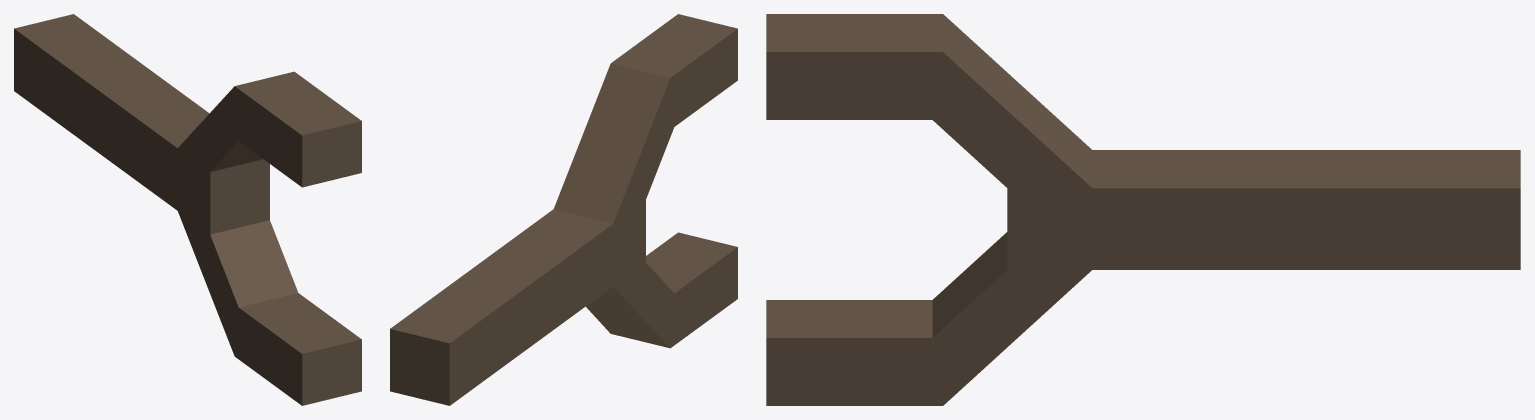
3 renders of one model, left to right at view 1: azimuth 30°, elevation 25°; view 2: azimuth 150°, elevation 25°; view 3: azimuth 270°, elevation 25°, orthographic. The views are drawn at different scales.
Parts seen in each view (by area): view 1: 立方体; view 2: 立方体; view 3: 立方体.
Boxes of the visible parts, bbox=[...] form: 立方体: bbox=[14, 14, 361, 405]; 立方体: bbox=[390, 14, 737, 405]; 立方体: bbox=[766, 14, 1520, 405].
Bounding box in the file's own units: 10 × 43.25 × 83.55.
